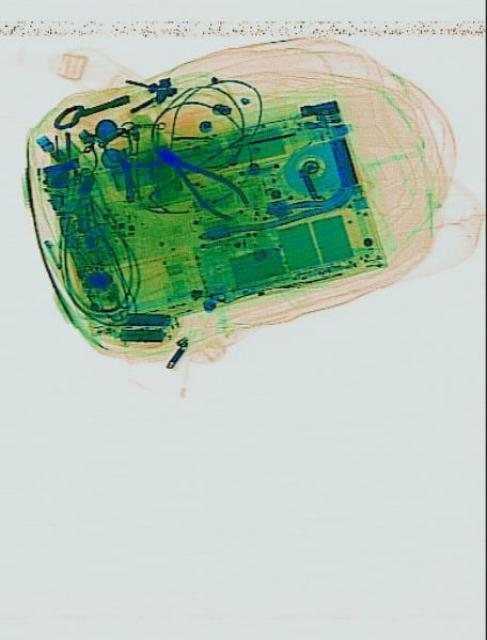Pliers: (146, 126, 251, 232)
